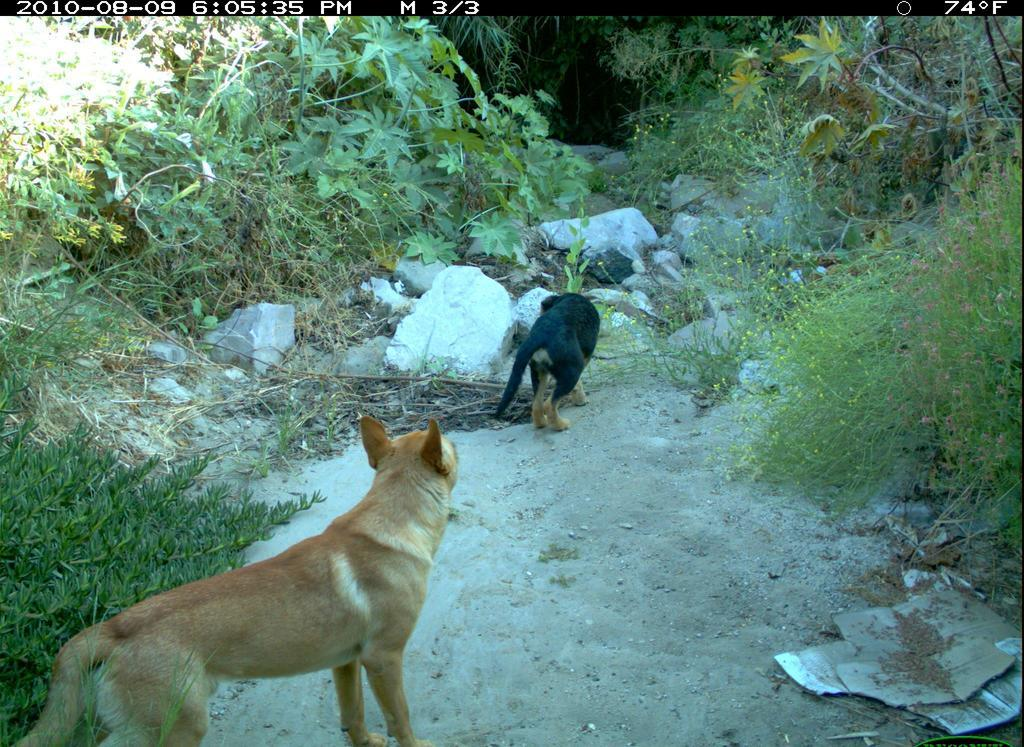dog: (21, 406, 468, 745), (489, 257, 616, 452)
